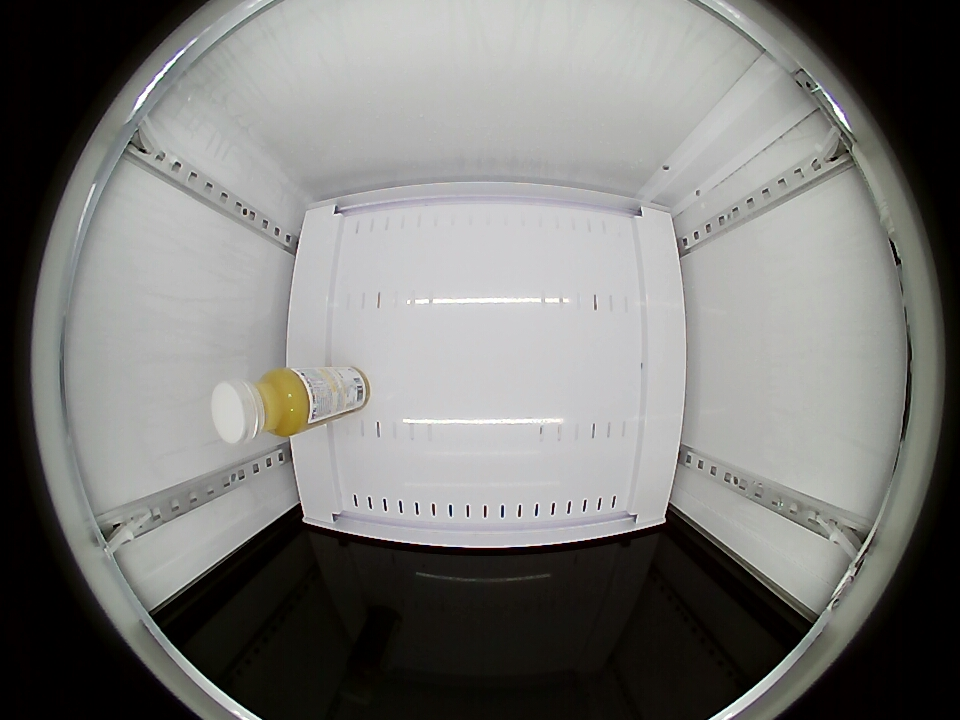nfc: (211, 367, 312, 443)
